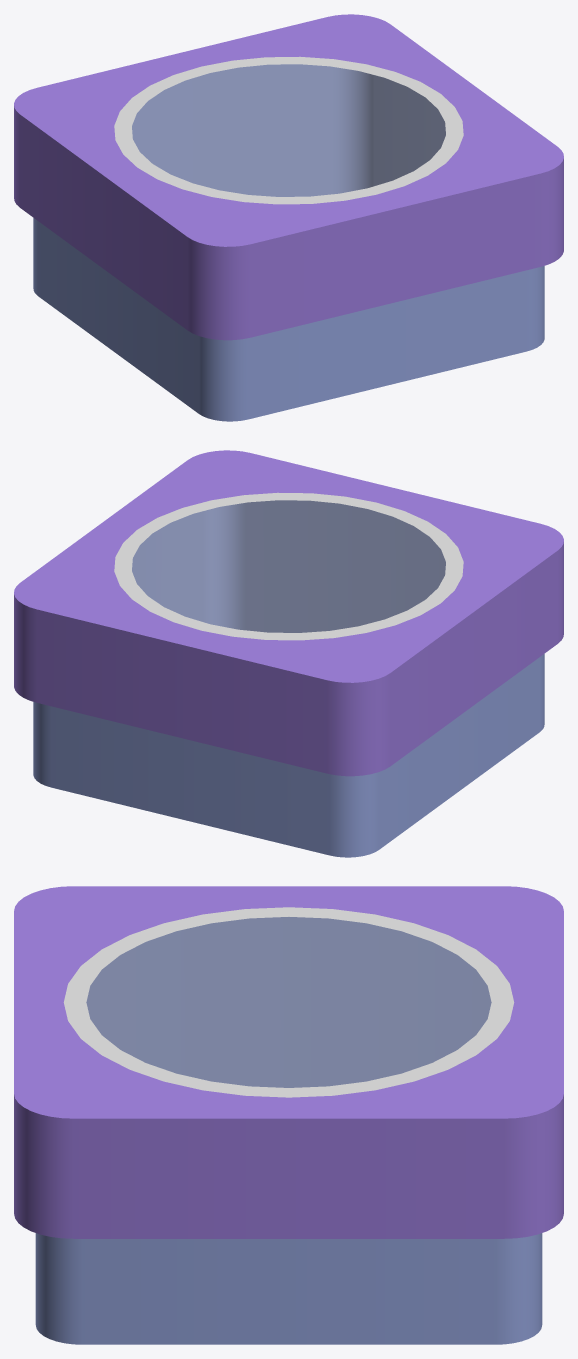
The model's file is kulaklikKutu.fbx.
3 renders of one model, top to bottom at view 1: azimuth 30°, elevation 25°; view 2: azimuth 150°, elevation 25°; view 3: azimuth 270°, elevation 25°, orthographic. The views are drawn at different scales.
Visible parts, largest first — view 1: Cube.002, Cube; view 2: Cube.002, Cube; view 3: Cube.002, Cube.
Part boxes in pixels (bbox=[...]): Cube.002: bbox=[14, 14, 563, 340]; Cube: bbox=[33, 64, 544, 421]; Cube.002: bbox=[14, 450, 563, 776]; Cube: bbox=[33, 500, 544, 857]; Cube.002: bbox=[14, 886, 563, 1238]; Cube: bbox=[35, 917, 542, 1344].
Bounding box in the file's own units: 264 × 125 × 264.
